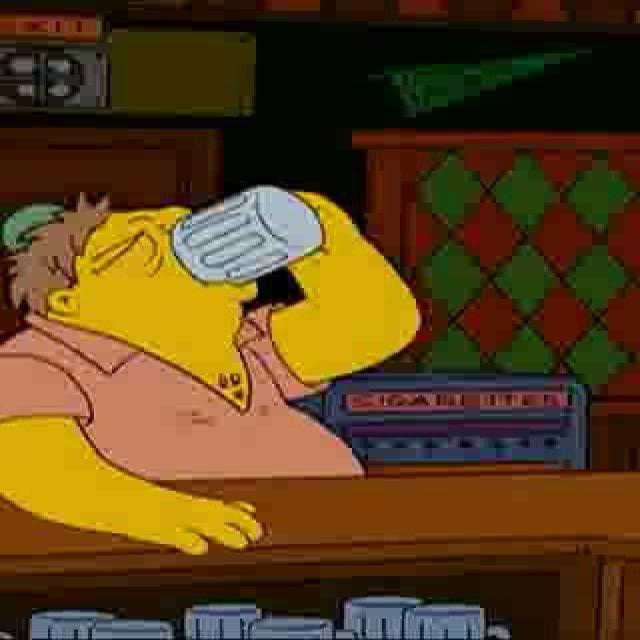Barney Gumble: (2, 190, 266, 367)
